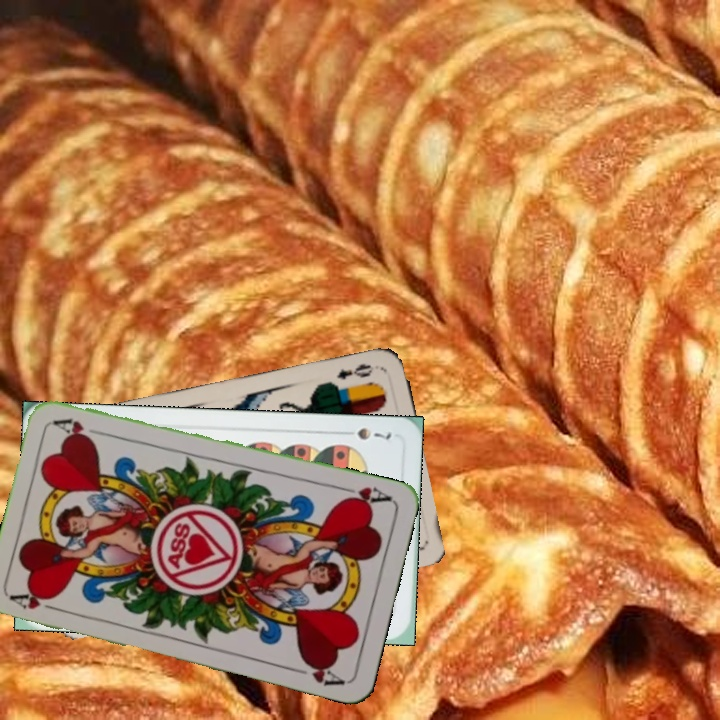EO: (333, 359, 383, 382)
HA: (335, 482, 394, 509), (8, 588, 67, 615)
S7: (337, 424, 394, 443)
